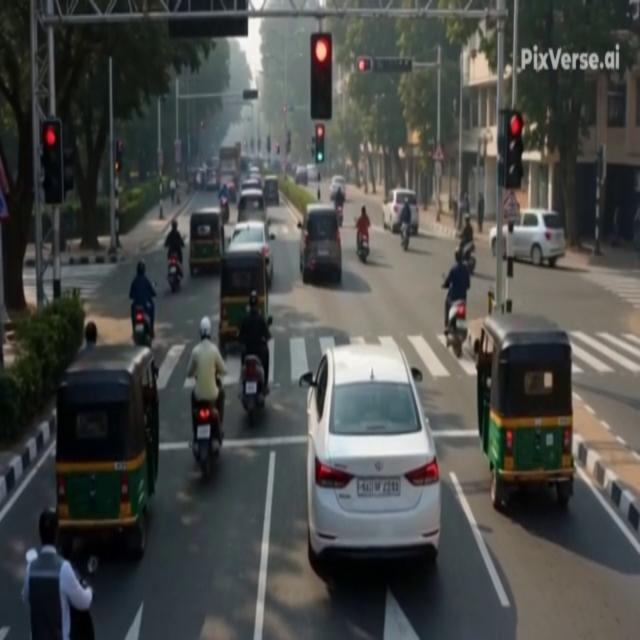car: (299, 344, 440, 572), (298, 204, 341, 283), (513, 208, 566, 267), (230, 221, 275, 286), (383, 189, 418, 234), (238, 190, 267, 223), (263, 175, 280, 206), (330, 176, 346, 200), (241, 179, 262, 192), (294, 167, 308, 185), (306, 164, 318, 182), (249, 173, 262, 186), (205, 180, 218, 191), (249, 165, 259, 175)
scooty: (70, 604, 95, 639)
traffic signal: (41, 119, 64, 204), (310, 33, 332, 120), (501, 110, 523, 189), (63, 146, 74, 198), (315, 124, 325, 163), (597, 145, 605, 183), (114, 140, 122, 173), (357, 57, 372, 72), (286, 130, 291, 154), (311, 136, 315, 157), (266, 136, 270, 153), (257, 137, 261, 152), (276, 144, 280, 155), (200, 120, 204, 128)
truck: (219, 145, 240, 184)
